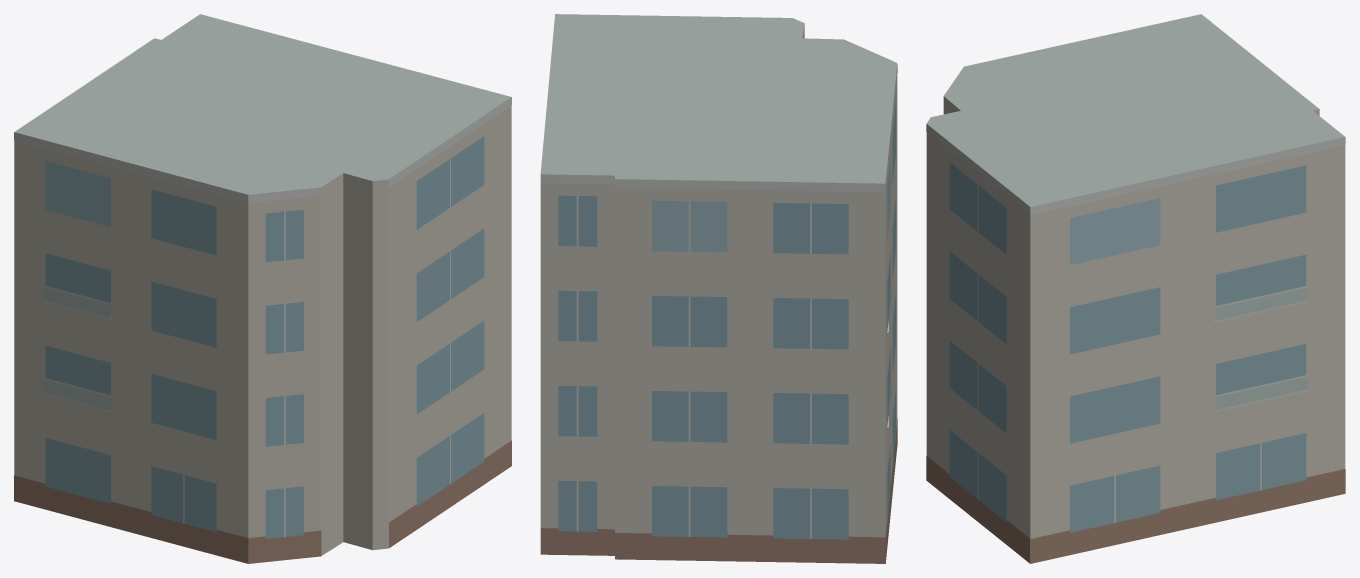
File: survey-upis-32951511.glb
The picture shows the model from 3 angles, left to right: view 1: azimuth 30°, elevation 25°; view 2: azimuth 150°, elevation 25°; view 3: azimuth 270°, elevation 25°; orthographic projection. The views are drawn at different scales.
Parts seen in each view (by area): view 1: survey-upis-32951511.tmp; view 2: survey-upis-32951511.tmp; view 3: survey-upis-32951511.tmp.
Boxes of the visible parts, left/top/right/bottom form: survey-upis-32951511.tmp: left=14, top=14, right=511, bottom=563; survey-upis-32951511.tmp: left=540, top=14, right=897, bottom=563; survey-upis-32951511.tmp: left=926, top=14, right=1345, bottom=563.
Size of the model in its own units: 12.31 by 10.6 by 11.29.
